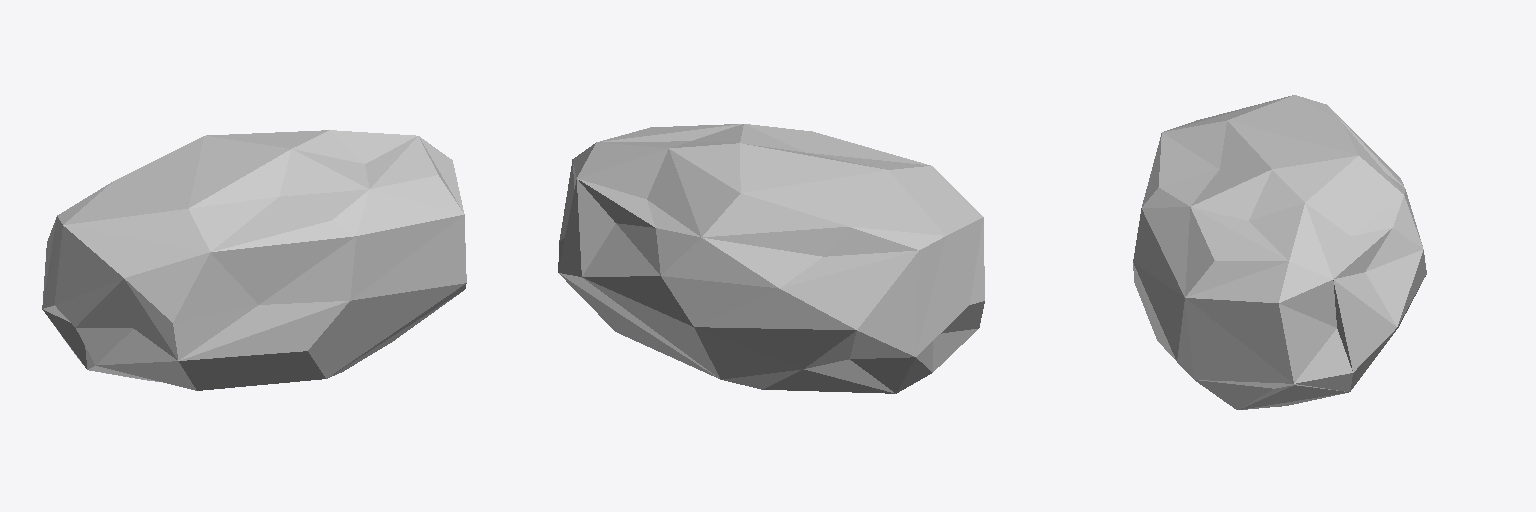
The model's file is rock2.obj.
The picture shows the model from 3 angles: view 1: azimuth 30°, elevation 25°; view 2: azimuth 150°, elevation 25°; view 3: azimuth 270°, elevation 25°; orthographic projection.
Parts seen in each view (by area): view 1: Cube; view 2: Cube; view 3: Cube.
Part boxes in pixels (bbox=[...]): Cube: bbox=[42, 130, 466, 390]; Cube: bbox=[558, 124, 984, 393]; Cube: bbox=[1133, 95, 1426, 409].
Size of the model in its own units: 1.66 by 0.8031 by 1.05.